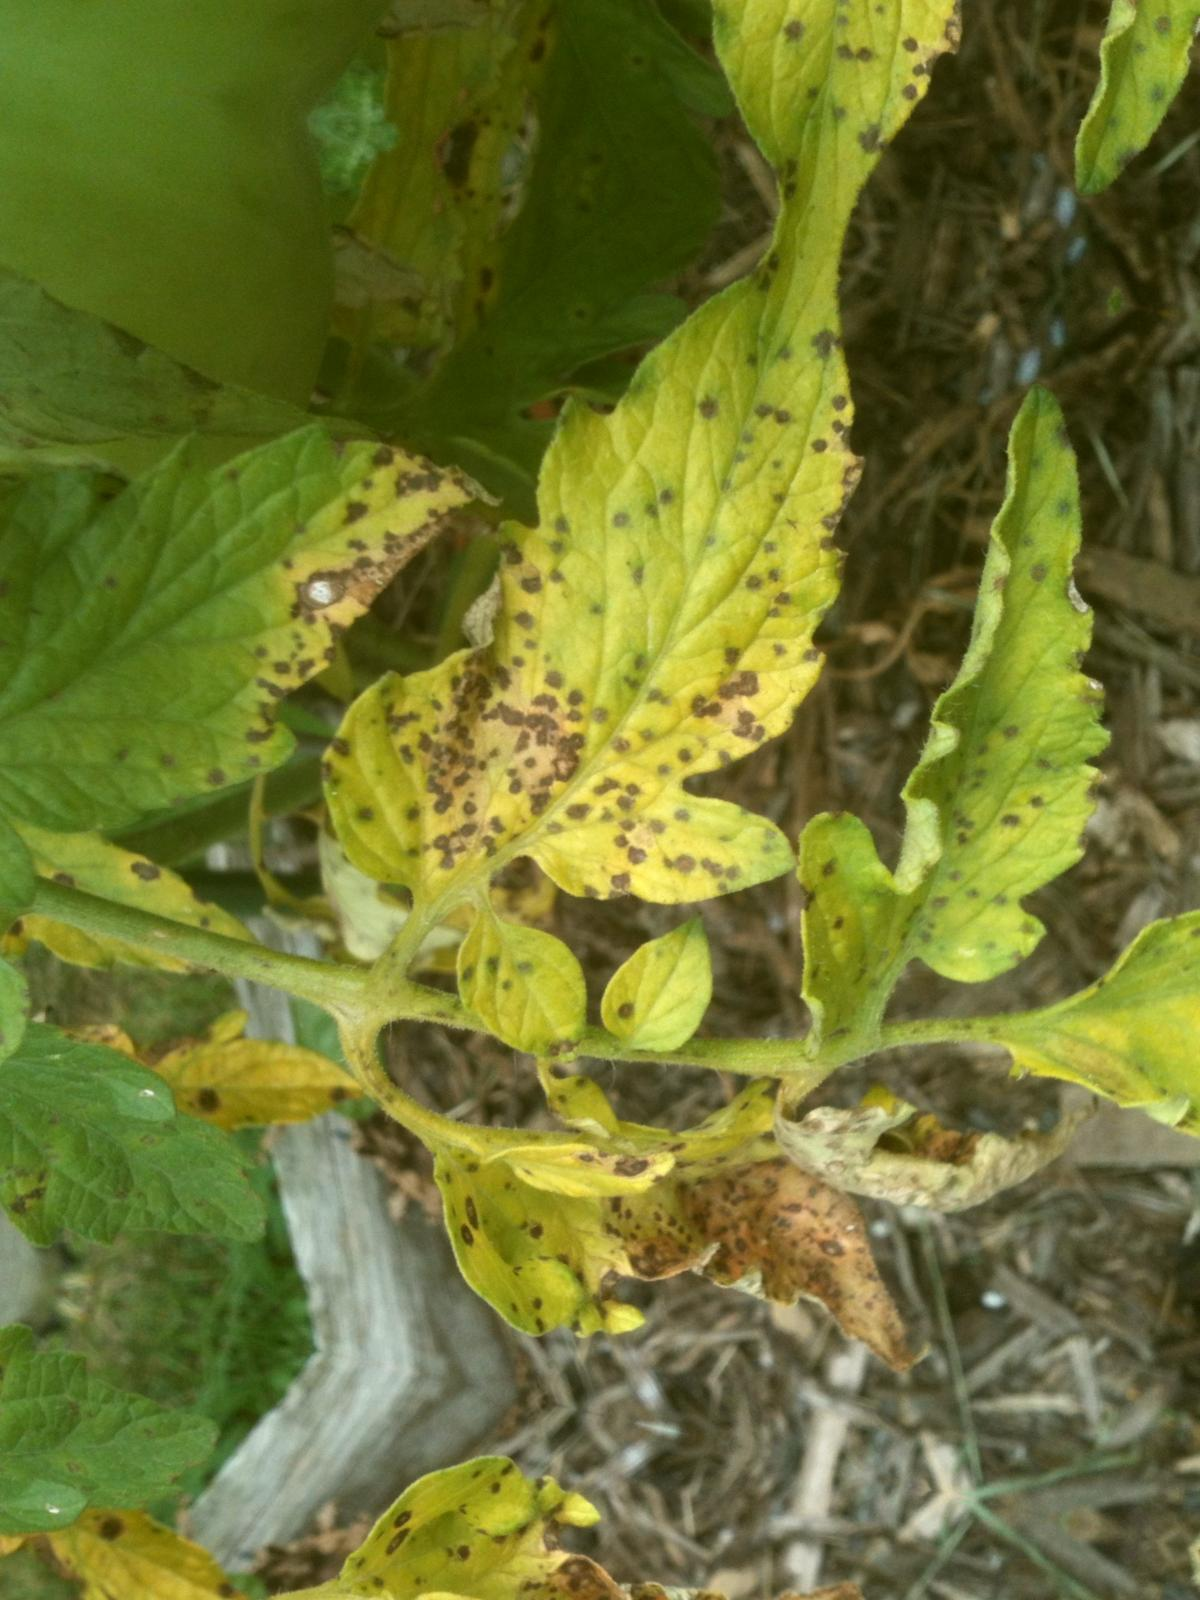Tomato Septoria leaf spot: (301, 155, 952, 1002), (711, 344, 1187, 1135), (0, 314, 452, 1013), (338, 1072, 1019, 1495), (980, 820, 1200, 1207)
